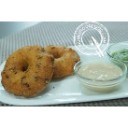vada: (3, 46, 52, 95), (41, 45, 80, 79)
